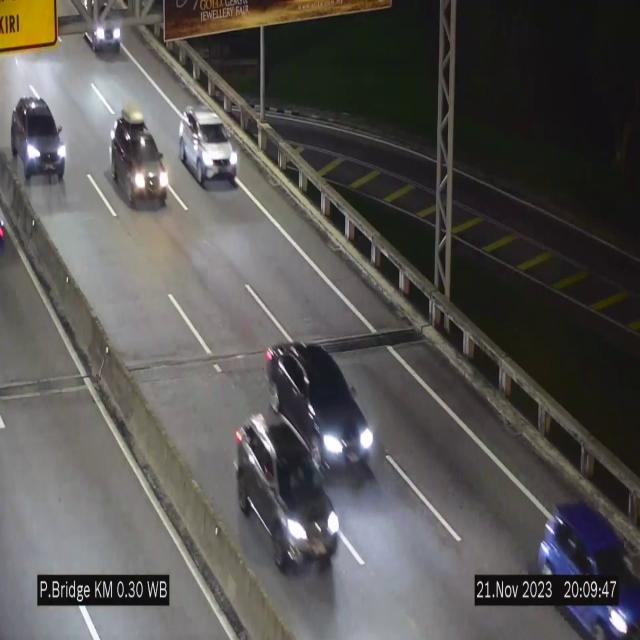Car: (527, 482, 640, 640), (238, 414, 342, 578), (266, 336, 373, 483), (110, 102, 170, 210), (9, 92, 70, 186), (178, 108, 238, 188), (75, 0, 125, 55)
